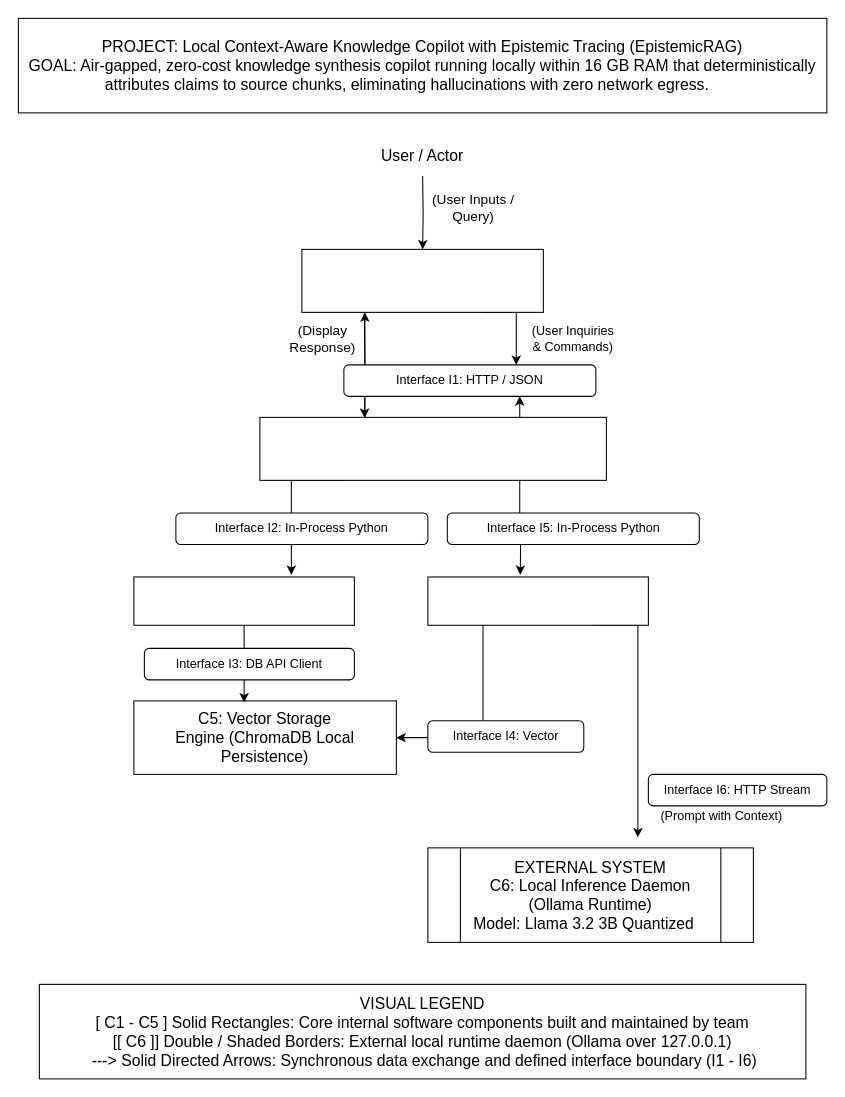
Some shapes in this 845 by 1097 pixel diagram are drawn without their labels. Here are the shapes that lost their labels. From the top down, the centre of each, then its label:
point 422,280: C1: User Interface (UI) (Web / CLI)
point 432,448: C2: Orchestration & Session Manager
point 243,600: C3: Document Ingestion Engine
point 537,600: C4: Epistemic Provenance Coordinator
